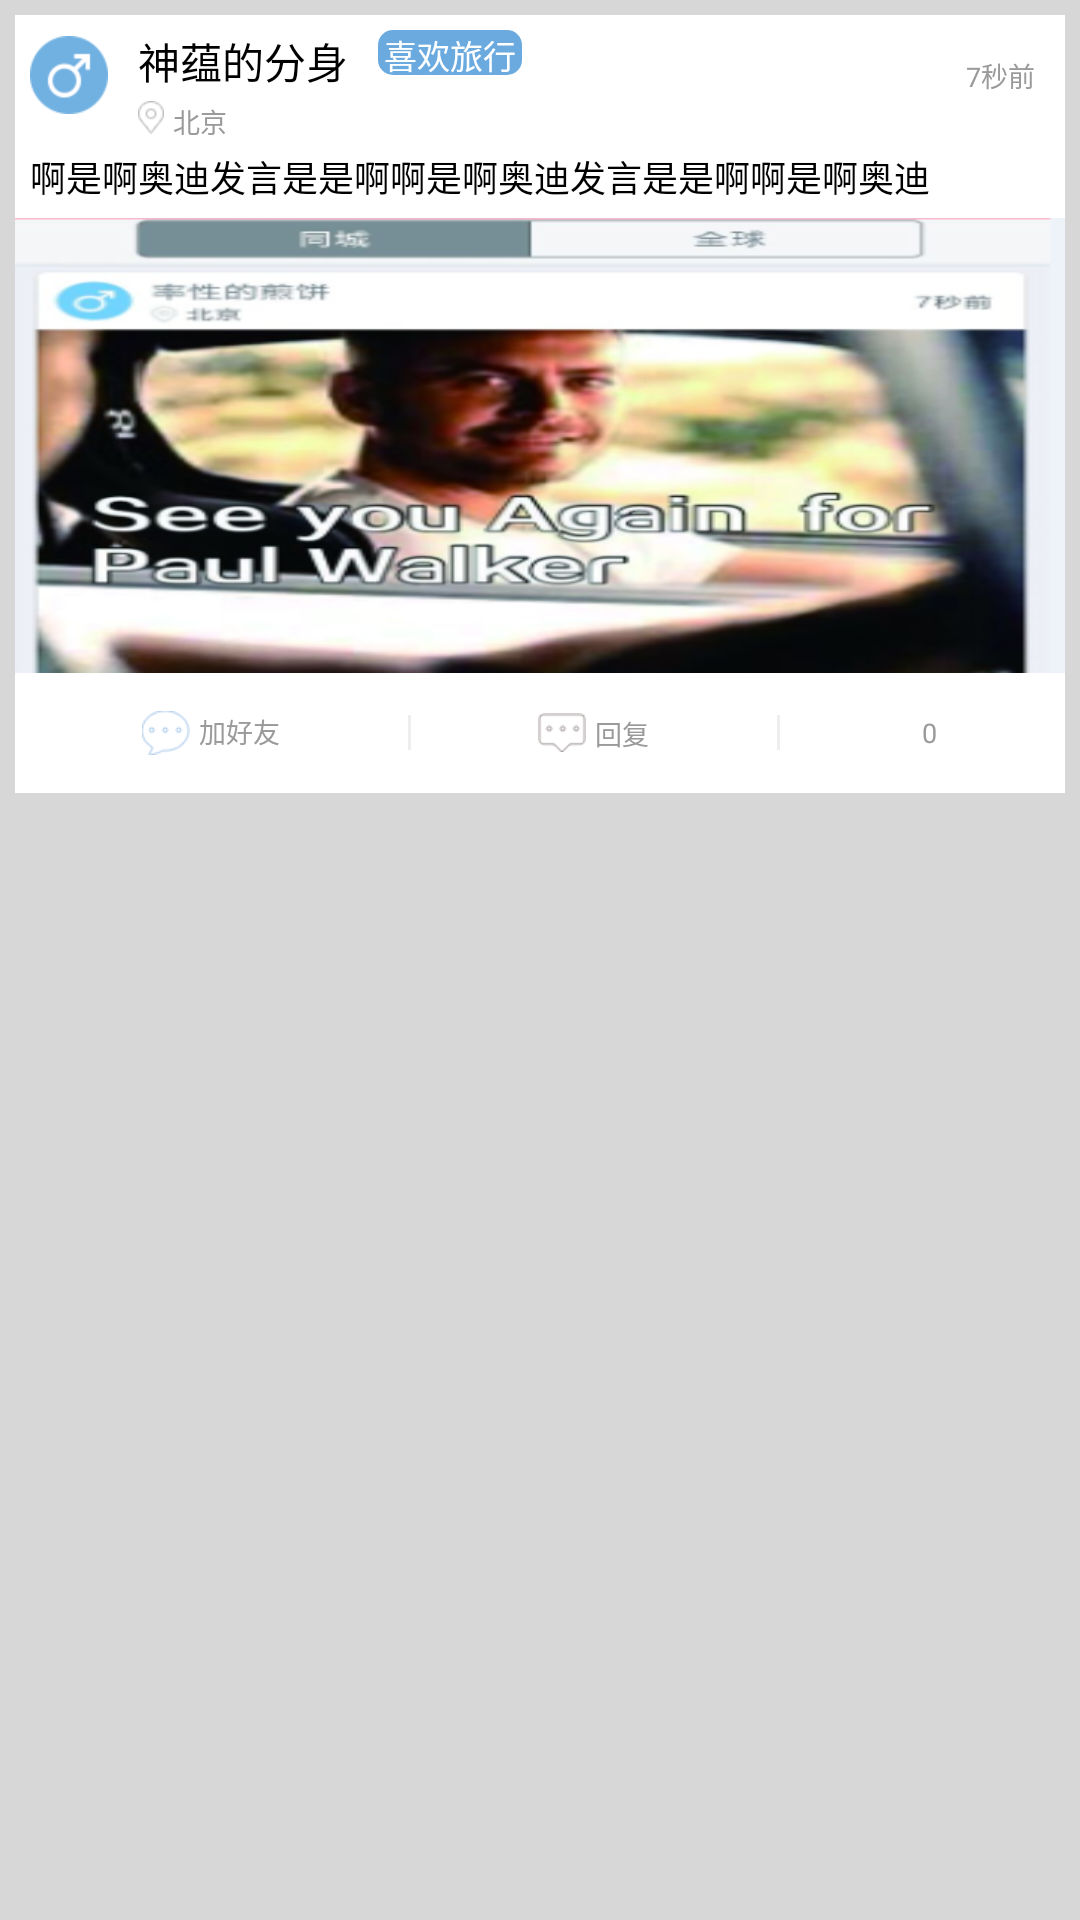

Screen size 1080x1920. Icon name, then its center in pixels as [x,y]:
boy: [69,75]
location: [151,117]
message: [166,733]
